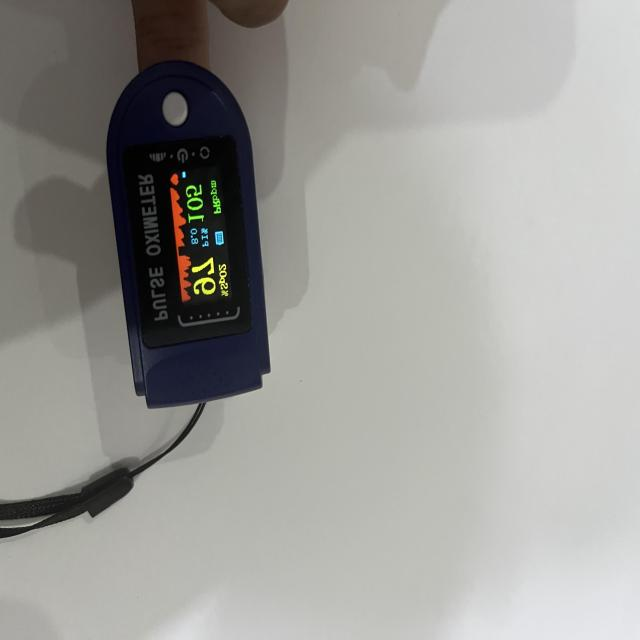spo2: (105, 61, 270, 410)
